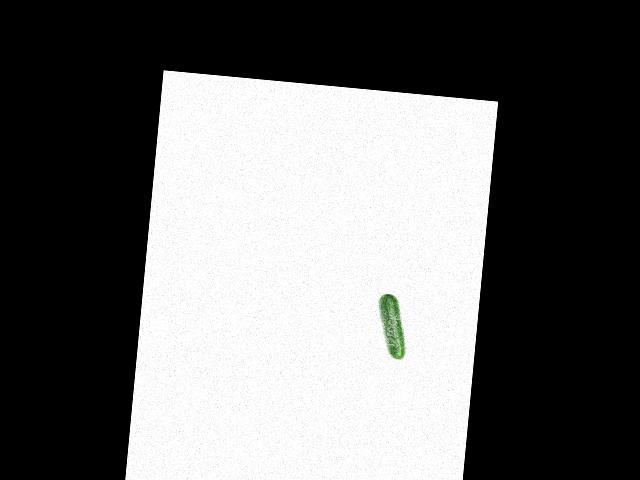cucumber: (374, 292, 410, 360)
